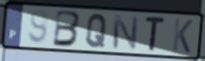9: (28, 9, 50, 46)
B: (51, 9, 83, 49)
K: (171, 17, 195, 55)
N: (111, 13, 140, 51)
Q: (84, 12, 109, 49)
T: (144, 15, 167, 53)
